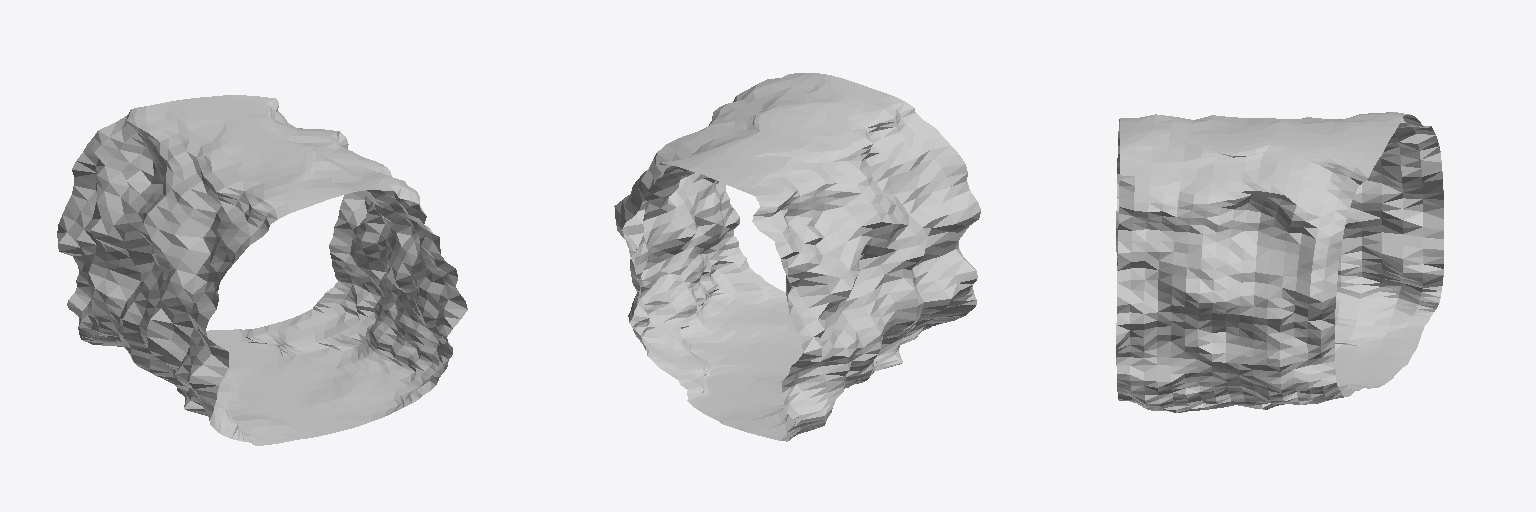
Rendered from cave2.obj.
3 renders of one model, left to right at view 1: azimuth 30°, elevation 25°; view 2: azimuth 150°, elevation 25°; view 3: azimuth 270°, elevation 25°, orthographic.
Parts seen in each view (by area): view 1: Cube.002; view 2: Cube.002; view 3: Cube.002.
Boxes of the visible parts, x1=… form: Cube.002: x1=57, y1=95, x2=467, y2=445; Cube.002: x1=614, y1=73, x2=980, y2=441; Cube.002: x1=1116, y1=112, x2=1443, y2=412.
Size of the model in its own units: 2.36 by 1.92 by 2.41.